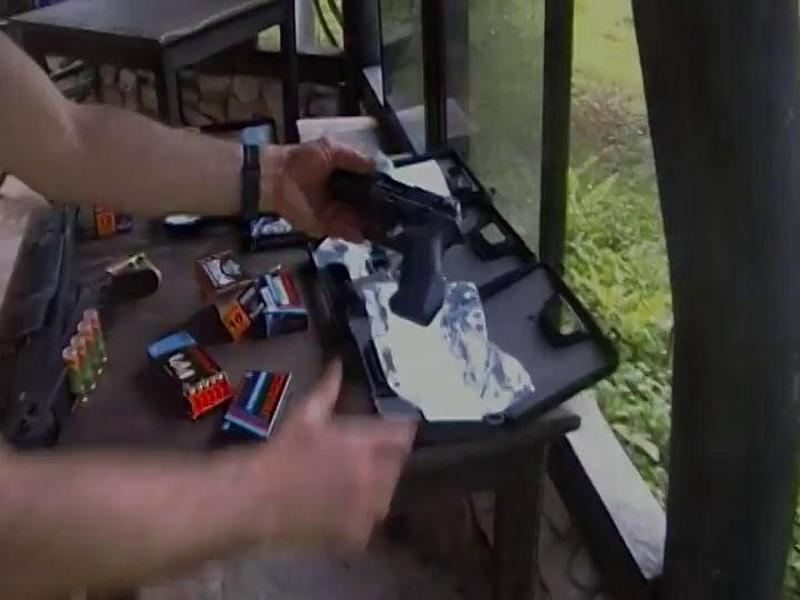Pistola: (317, 158, 471, 329)
